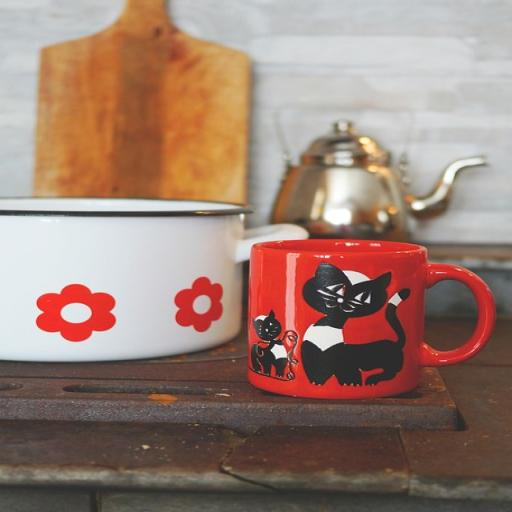phone: (249, 238, 496, 402)
